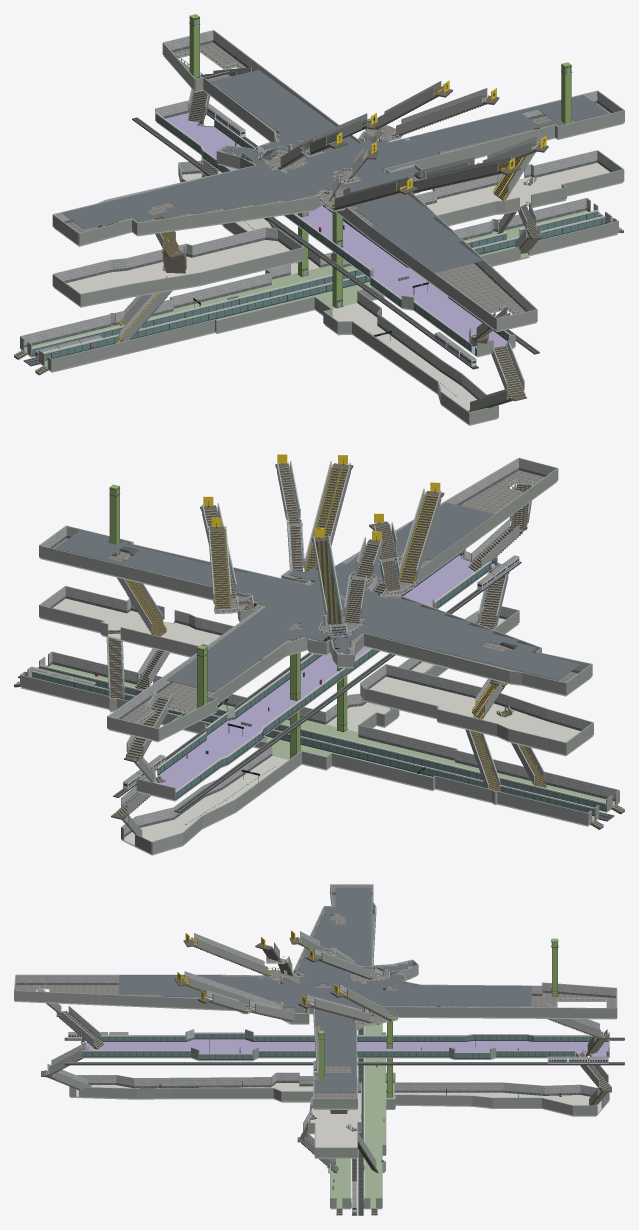
Rendered from gunja-guide.glb.
The picture shows the model from 3 angles, top to bottom: view 1: azimuth 30°, elevation 25°; view 2: azimuth 150°, elevation 25°; view 3: azimuth 270°, elevation 25°; orthographic projection. The views are drawn at different scales.
Parts seen in each view (by area): view 1: B1 · Suspended ceiling and strip lights, B3 · Enclosure walls, B1 · Enclosure walls, B2 · Enclosure walls, B2_Line5_Island_Platform, B3 · Platform track barriers, B1_Concourse, B2_Line7_Junggok_Concourse, B2 · Platform track barriers, B2_Line7_Children_Concourse, B3_South_Transfer_Passage, B3_Line7_North_Side_Platform (+15 smaller); view 2: B1 · Suspended ceiling and strip lights, B3 · Enclosure walls, B1 · Enclosure walls, B2 · Enclosure walls, B2_Line5_Island_Platform, B3 · Platform track barriers, B1_Concourse, B2 · Platform track barriers, B2_Line7_Junggok_Concourse, B3_North_Transfer_Passage, B2_Line7_Children_Concourse, B3_Line7_South_Side_Platform (+24 smaller); view 3: B1 · Suspended ceiling and strip lights, B3 · Enclosure walls, B1 · Enclosure walls, B2 · Platform track barriers, B2_Line5_Island_Platform, B1_Concourse, B3_Line7_North_Side_Platform, B2 · Track 2, B2_Line7_Children_Concourse, B2 · Enclosure walls, B3_North_Transfer_Passage, B3_South_Transfer_Passage (+10 smaller).
Boxes of the visible parts, x1=… form: B1 · Suspended ceiling and strip lights: x1=62, y1=70, x2=608, y2=272; B3 · Enclosure walls: x1=20, y1=160, x2=618, y2=424; B1 · Enclosure walls: x1=52, y1=30, x2=624, y2=330; B2 · Enclosure walls: x1=52, y1=100, x2=624, y2=355; B2_Line5_Island_Platform: x1=156, y1=113, x2=514, y2=357; B3 · Platform track barriers: x1=31, y1=210, x2=605, y2=360; B1_Concourse: x1=54, y1=42, x2=623, y2=331; B2_Line7_Junggok_Concourse: x1=53, y1=240, x2=302, y2=307; B2 · Platform track barriers: x1=155, y1=112, x2=515, y2=355; B2_Line7_Children_Concourse: x1=426, y1=162, x2=623, y2=226; B3_South_Transfer_Passage: x1=320, y1=303, x2=497, y2=425; B3_Line7_North_Side_Platform: x1=21, y1=210, x2=588, y2=357; B1 · Suspended ceiling and strip lights: x1=55, y1=502, x2=580, y2=691; B3 · Enclosure walls: x1=20, y1=606, x2=619, y2=854; B1 · Enclosure walls: x1=39, y1=457, x2=592, y2=740; B2 · Enclosure walls: x1=39, y1=549, x2=593, y2=800; B2_Line5_Island_Platform: x1=137, y1=555, x2=496, y2=801; B3 · Platform track barriers: x1=31, y1=665, x2=606, y2=816; B1_Concourse: x1=40, y1=470, x2=591, y2=742; B2 · Platform track barriers: x1=136, y1=554, x2=497, y2=799; B2_Line7_Junggok_Concourse: x1=361, y1=676, x2=593, y2=756; B3_North_Transfer_Passage: x1=122, y1=756, x2=301, y2=855; B2_Line7_Children_Concourse: x1=40, y1=598, x2=220, y2=657; B3_Line7_South_Side_Platform: x1=48, y1=664, x2=618, y2=812; B1 · Suspended ceiling and strip lights: x1=119, y1=887, x2=531, y2=1092; B3 · Enclosure walls: x1=69, y1=1023, x2=609, y2=1208; B1 · Enclosure walls: x1=14, y1=884, x2=617, y2=1108; B2 · Platform track barriers: x1=81, y1=1032, x2=609, y2=1059; B2_Line5_Island_Platform: x1=81, y1=1039, x2=609, y2=1061; B1_Concourse: x1=14, y1=894, x2=616, y2=1109; B3_Line7_North_Side_Platform: x1=364, y1=1024, x2=394, y2=1209; B2 · Track 2: x1=64, y1=1062, x2=624, y2=1065; B2_Line7_Children_Concourse: x1=308, y1=1071, x2=361, y2=1158; B2 · Enclosure walls: x1=81, y1=964, x2=609, y2=1157; B3_North_Transfer_Passage: x1=395, y1=1092, x2=608, y2=1116; B3_South_Transfer_Passage: x1=70, y1=1083, x2=313, y2=1102.
Bounding box in the file's own units: 216 × 67.98 × 237.
Materials: 64 (5 with a texture image).
